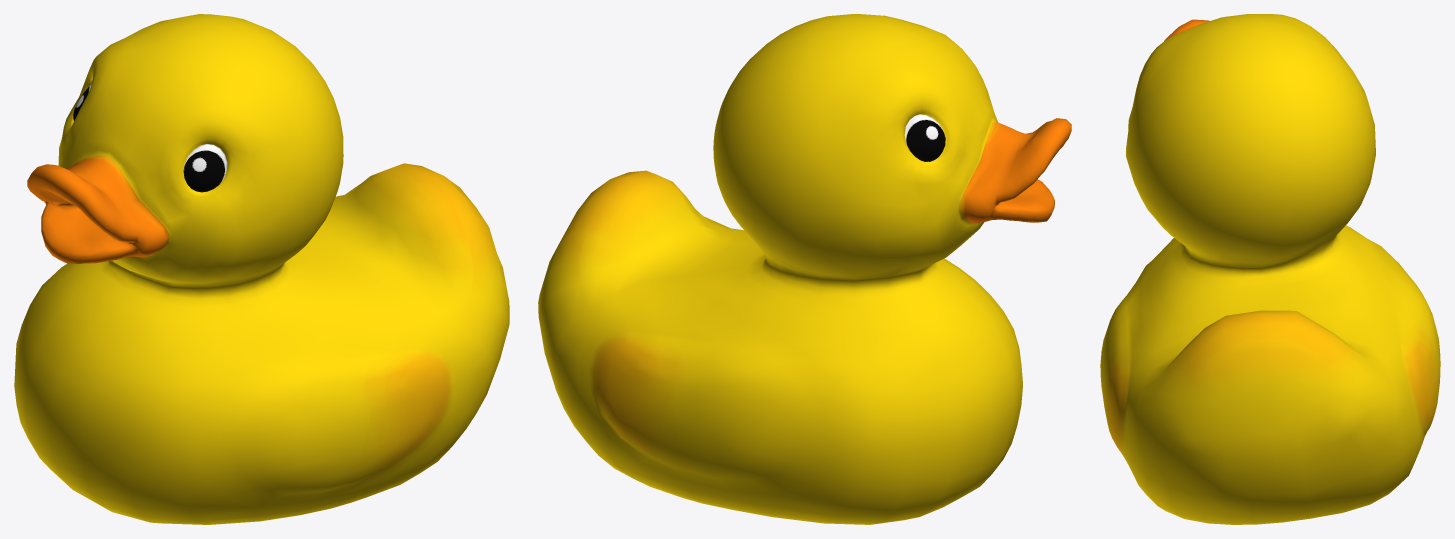
File: freihaus_v0_7_student.dae
3 views of the same model, side by side, from view 1: azimuth 30°, elevation 25°; view 2: azimuth 150°, elevation 25°; view 3: azimuth 270°, elevation 25° (orthographic). The views are drawn at different scales.
Parts seen in each view (by area): view 1: Duck; view 2: Duck; view 3: Duck.
Boxes of the visible parts, left/top/right/bottom form: Duck: left=14, top=14, right=509, bottom=524; Duck: left=538, top=14, right=1071, bottom=524; Duck: left=1100, top=14, right=1440, bottom=524.
Bounding box in the file's own units: 1.65 × 1.15 × 1.56.
